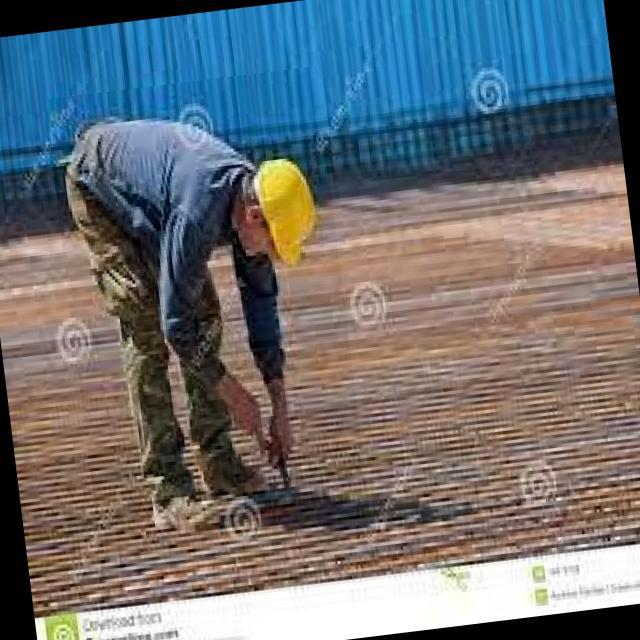Helmet: (250, 150, 330, 276)
Person: (48, 89, 362, 560)
Safety Boot: (145, 468, 232, 550), (195, 432, 272, 512)
bare-arms: (212, 358, 271, 479), (269, 373, 314, 501)
no-vest: (70, 105, 291, 402)
